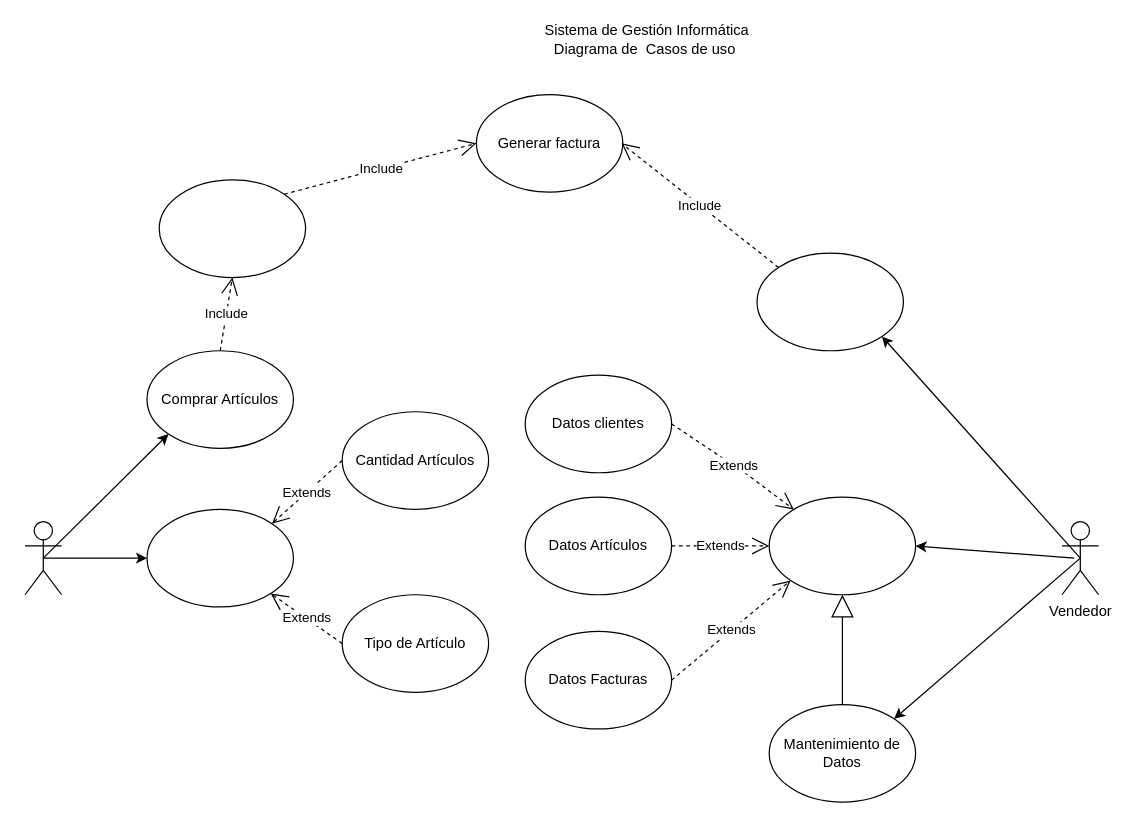
Image size: 1132x824. Some labels were removed from this diagram. The shapes that lost their labels are listed below. From the top down, each one's centre as x and y in pixels, then its label:
the point at 232,228: Pagar
the point at 829,301: Vender Artículos
the point at 43,557: Cliente
the point at 219,557: Seleccionar Articulo
the point at 842,545: Almacenar datos
